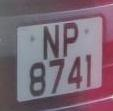1: (82, 53, 95, 93)
4: (67, 55, 86, 94)
7: (47, 58, 69, 96)
8: (25, 58, 50, 100)
N: (40, 20, 63, 64)
P: (61, 18, 82, 59)
